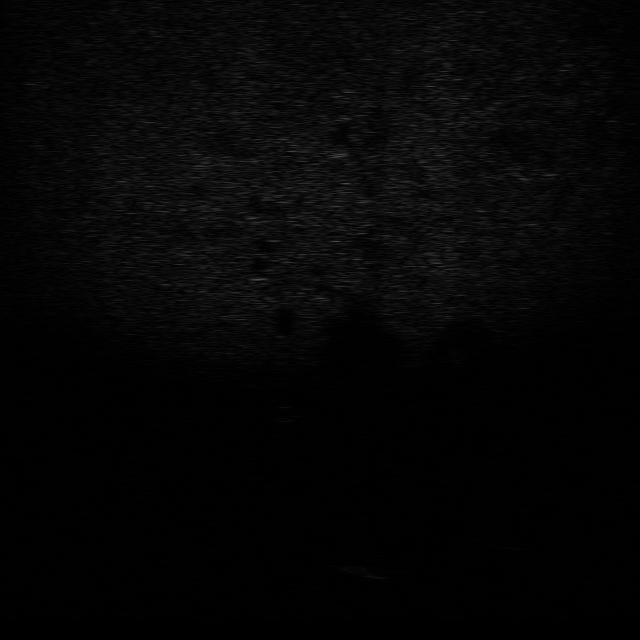ball: (264, 402, 304, 424)
metal bucket: (324, 556, 406, 584)
tyre: (437, 518, 518, 552)
